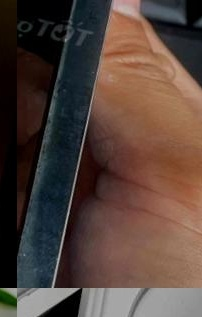scratch: (17, 0, 179, 182)
